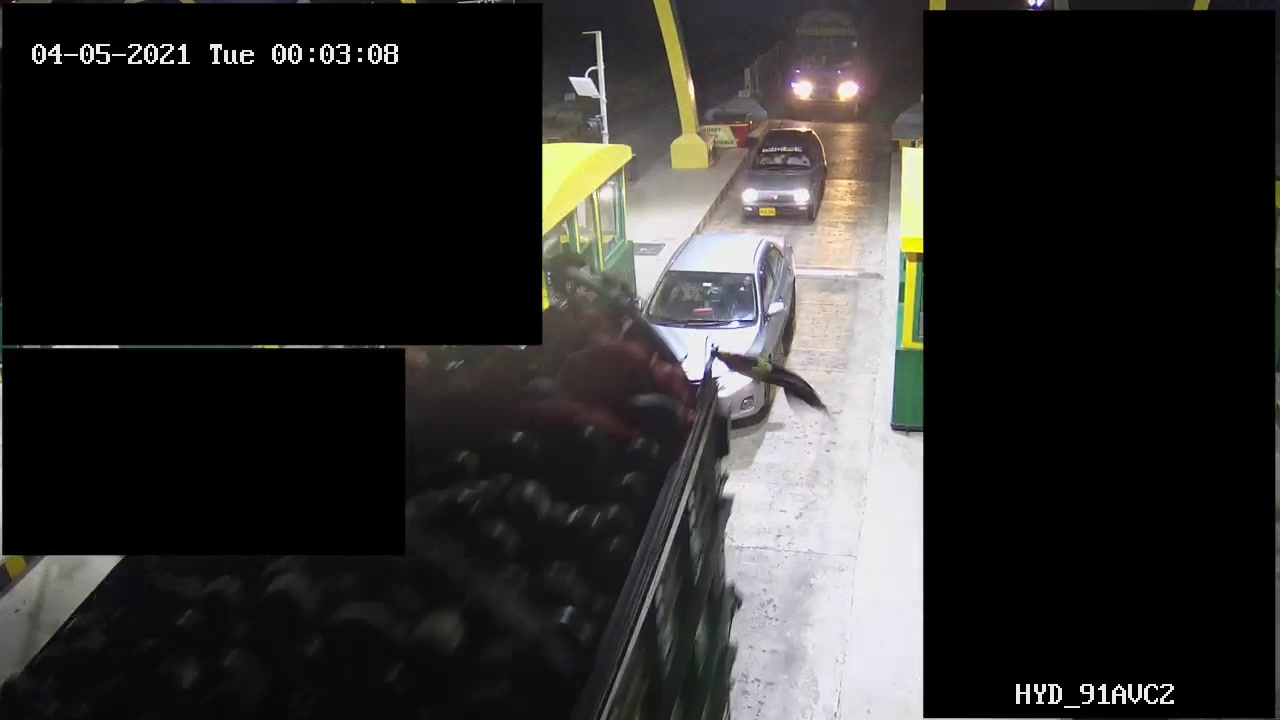F1: (736, 116, 835, 224)
